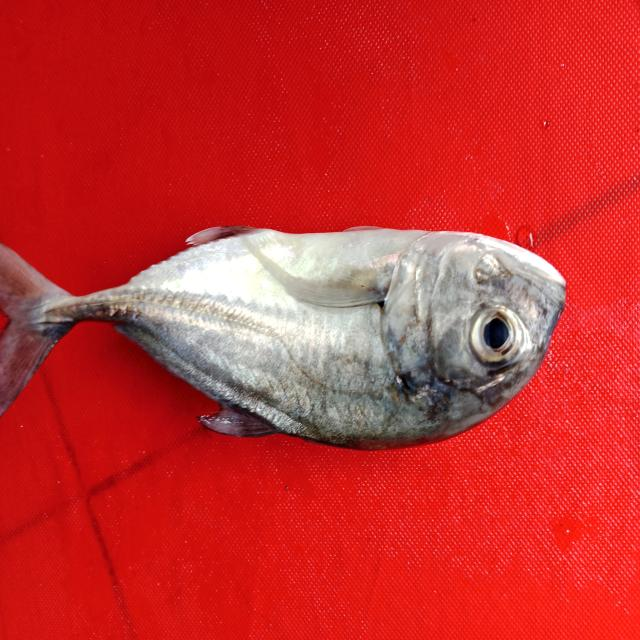ikan: (8, 183, 575, 476)
